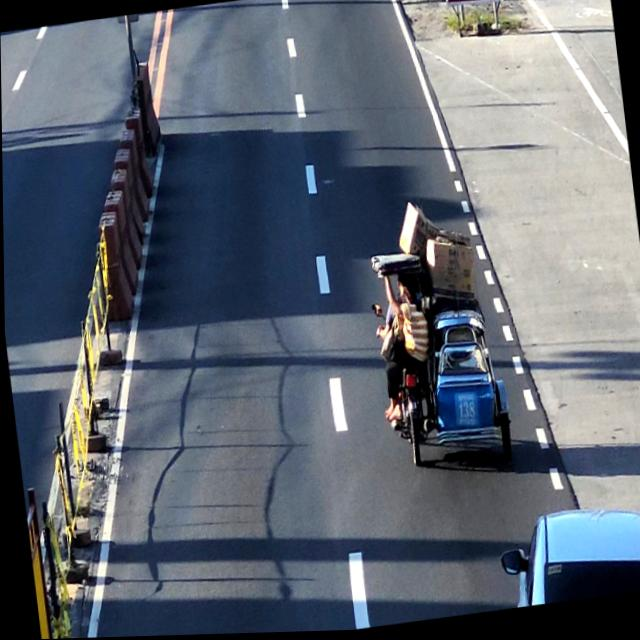Car: (499, 498, 640, 612)
Tricycle: (366, 197, 515, 472)
